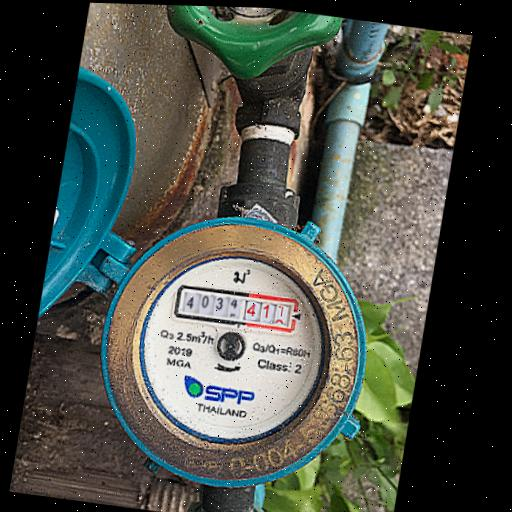0: (198, 296, 213, 315)
1: (259, 304, 275, 324), (274, 306, 289, 326)
3: (213, 296, 228, 317)
4: (244, 301, 260, 322), (183, 293, 198, 314), (227, 299, 242, 320)
border_water_meter_number: (172, 283, 301, 334)
